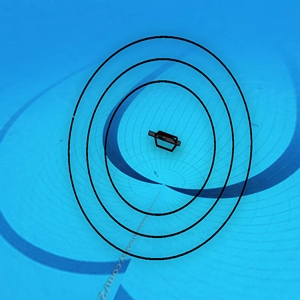circle: (68, 33, 252, 260)
submarine: (146, 127, 181, 152)
